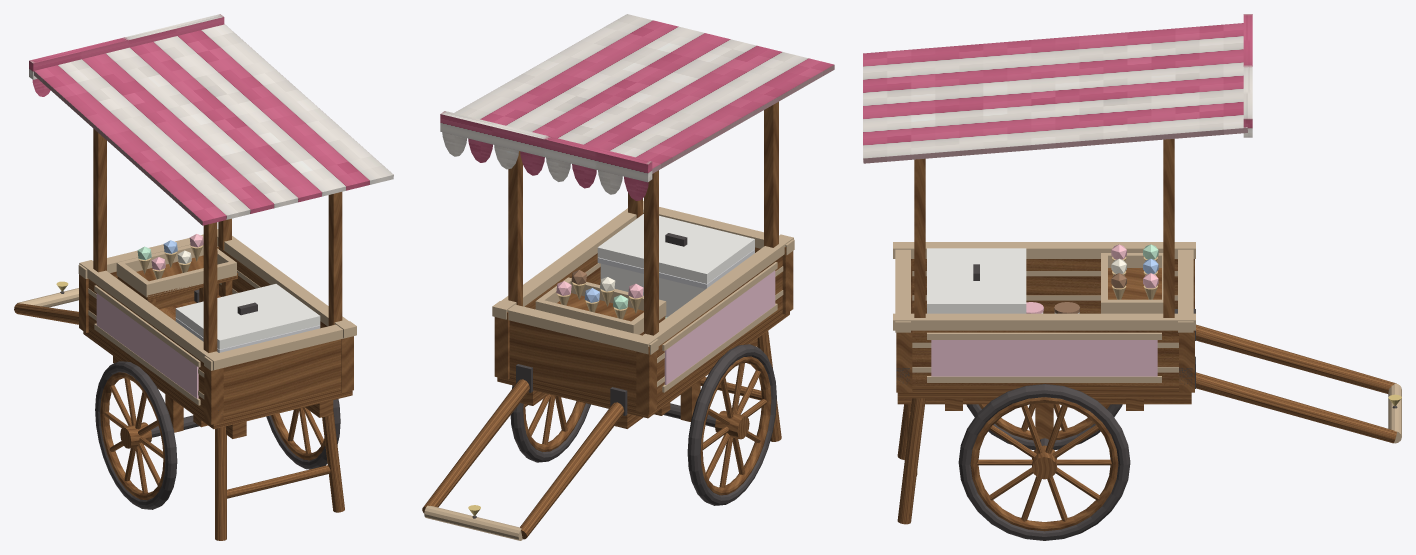
The model's file is gerobak-es-krim-blender-v1.glb.
3 renders of one model, left to right at view 1: azimuth 30°, elevation 25°; view 2: azimuth 150°, elevation 25°; view 3: azimuth 270°, elevation 25°, orthographic. The views are drawn at different scales.
Parts seen in each view (by area): view 1: eskrim_stripe, eskrim_wood, eskrim_woodl, eskrim_boxw, eskrim_dark, eskrim_panel, eskrim_metal, eskrim_cone; view 2: eskrim_stripe, eskrim_wood, eskrim_woodl, eskrim_boxw, eskrim_dark, eskrim_panel, eskrim_metal, eskrim_cone; view 3: eskrim_stripe, eskrim_wood, eskrim_woodl, eskrim_panel, eskrim_dark, eskrim_boxw.
Part boxes in pixels (bbox=[...]): eskrim_stripe: bbox=[29, 14, 393, 225]; eskrim_wood: bbox=[14, 128, 353, 540]; eskrim_woodl: bbox=[17, 229, 356, 405]; eskrim_boxw: bbox=[175, 284, 320, 349]; eskrim_dark: bbox=[60, 289, 340, 509]; eskrim_panel: bbox=[96, 293, 198, 398]; eskrim_metal: bbox=[175, 318, 320, 352]; eskrim_cone: bbox=[138, 245, 202, 279]; eskrim_stripe: bbox=[440, 14, 834, 200]; eskrim_wood: bbox=[422, 101, 793, 539]; eskrim_woodl: bbox=[424, 201, 794, 540]; eskrim_boxw: bbox=[597, 214, 754, 317]; eskrim_dark: bbox=[472, 233, 776, 518]; eskrim_panel: bbox=[664, 270, 775, 384]; eskrim_metal: bbox=[597, 249, 754, 288]; eskrim_cone: bbox=[557, 282, 642, 319]; eskrim_stripe: bbox=[863, 14, 1252, 163]; eskrim_wood: bbox=[896, 139, 1396, 531]; eskrim_woodl: bbox=[893, 242, 1401, 443]; eskrim_panel: bbox=[931, 340, 1157, 376]; eskrim_dark: bbox=[896, 264, 1397, 540]; eskrim_boxw: bbox=[927, 248, 1079, 313].
Size of the model in its own units: 1.11 by 2.09 by 2.38.
14 materials, 2 textured.
